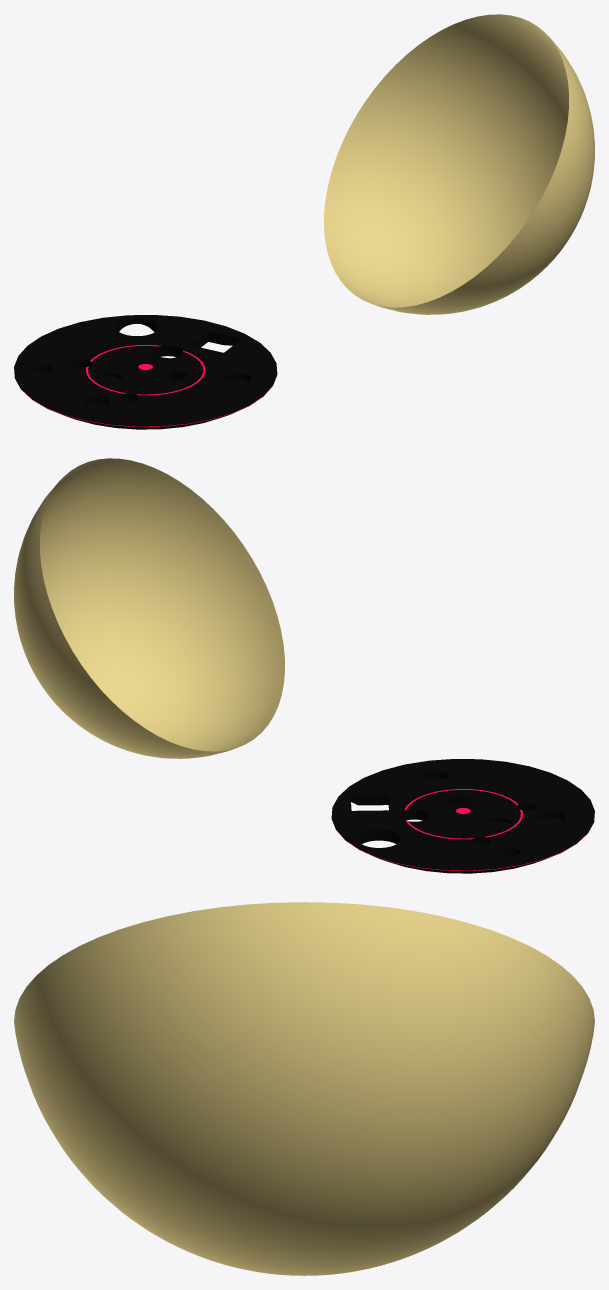
File: glass-glass-double2.glb
3 views of the same model, one above another, from view 1: azimuth 30°, elevation 25°; view 2: azimuth 150°, elevation 25°; view 3: azimuth 270°, elevation 25° (orthographic). The views are drawn at different scales.
Parts seen in each view (by area): view 1: Sphere, Cylinder.001; view 2: Sphere, Cylinder.001; view 3: Sphere.
Part boxes in pixels (<box>): Sphere: <box>324,14,594,314</box>; Cylinder.001: <box>14,315,277,429</box>; Sphere: <box>14,458,284,758</box>; Cylinder.001: <box>331,759,594,873</box>; Sphere: <box>14,902,594,1275</box>.
Size of the model in its own units: 46.43 by 21.15 by 24.14.
